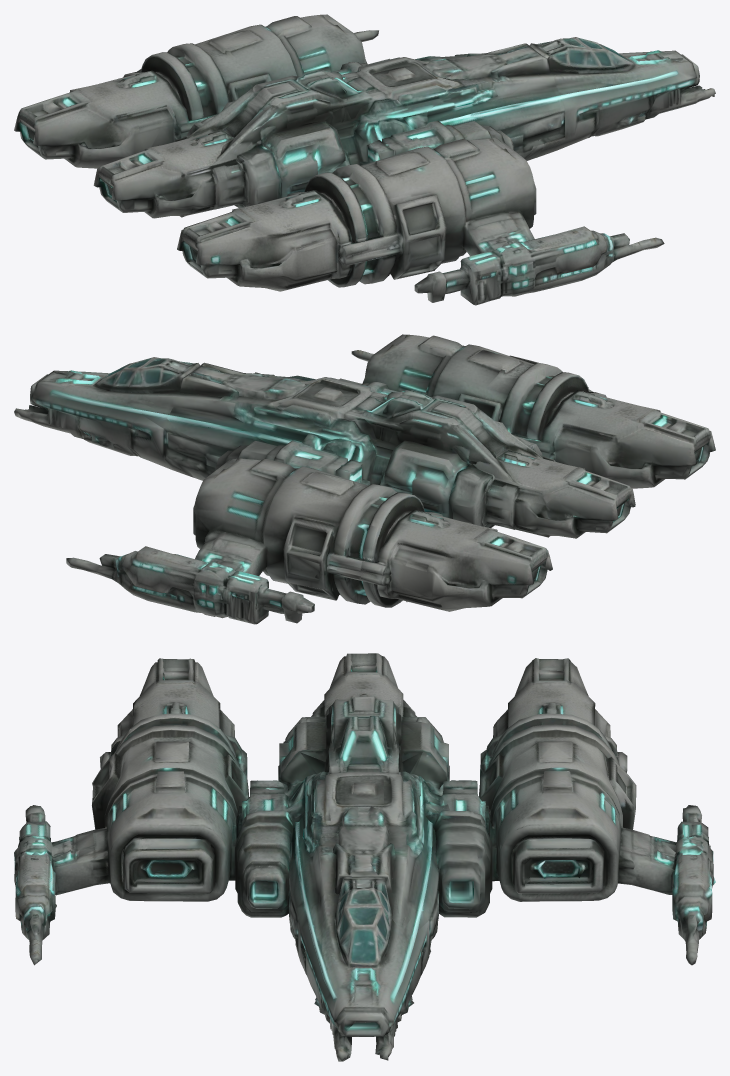
File: Nave8.glb
3 renders of one model, top to bottom at view 1: azimuth 30°, elevation 25°; view 2: azimuth 150°, elevation 25°; view 3: azimuth 270°, elevation 25°, orthographic. The views are drawn at different scales.
Parts seen in each view (by area): view 1: tripo_part_1, tripo_part_0, tripo_part_2, tripo_part_4, tripo_part_7, tripo_part_12, tripo_part_5, tripo_part_13, tripo_part_10; view 2: tripo_part_2, tripo_part_0, tripo_part_1, tripo_part_4, tripo_part_6, tripo_part_8, tripo_part_3; view 3: tripo_part_2, tripo_part_1, tripo_part_0, tripo_part_4, tripo_part_3, tripo_part_7, tripo_part_6, tripo_part_11, tripo_part_9, tripo_part_10, tripo_part_5, tripo_part_8 (+1 smaller).
Boxes of the visible parts, x1,y1,x2,y2 form: tripo_part_1: (177,138,535,291); tripo_part_0: (93,50,715,218); tripo_part_2: (14,14,365,168); tripo_part_4: (186,37,636,163); tripo_part_7: (414,226,664,305); tripo_part_12: (272,122,350,197); tripo_part_5: (359,119,464,165); tripo_part_13: (234,145,281,207); tripo_part_10: (453,121,513,150); tripo_part_2: (194,458,552,611); tripo_part_0: (14,370,635,538); tripo_part_1: (364,334,715,488); tripo_part_4: (92,357,543,482); tripo_part_6: (66,546,314,624); tripo_part_8: (380,440,494,527); tripo_part_3: (215,438,370,485); tripo_part_2: (478,658,676,901); tripo_part_1: (52,658,248,901); tripo_part_0: (287,653,440,1061); tripo_part_4: (300,696,422,968); tripo_part_3: (425,780,499,917); tripo_part_7: (14,805,62,965); tripo_part_6: (665,805,715,965); tripo_part_11: (123,838,214,893); tripo_part_9: (512,838,603,893); tripo_part_10: (237,831,291,917); tripo_part_5: (229,780,296,892); tripo_part_8: (401,717,449,795).
Bounding box in the file's own units: 0.9798 × 0.258 × 0.8573.
1 material, 1 textured.
